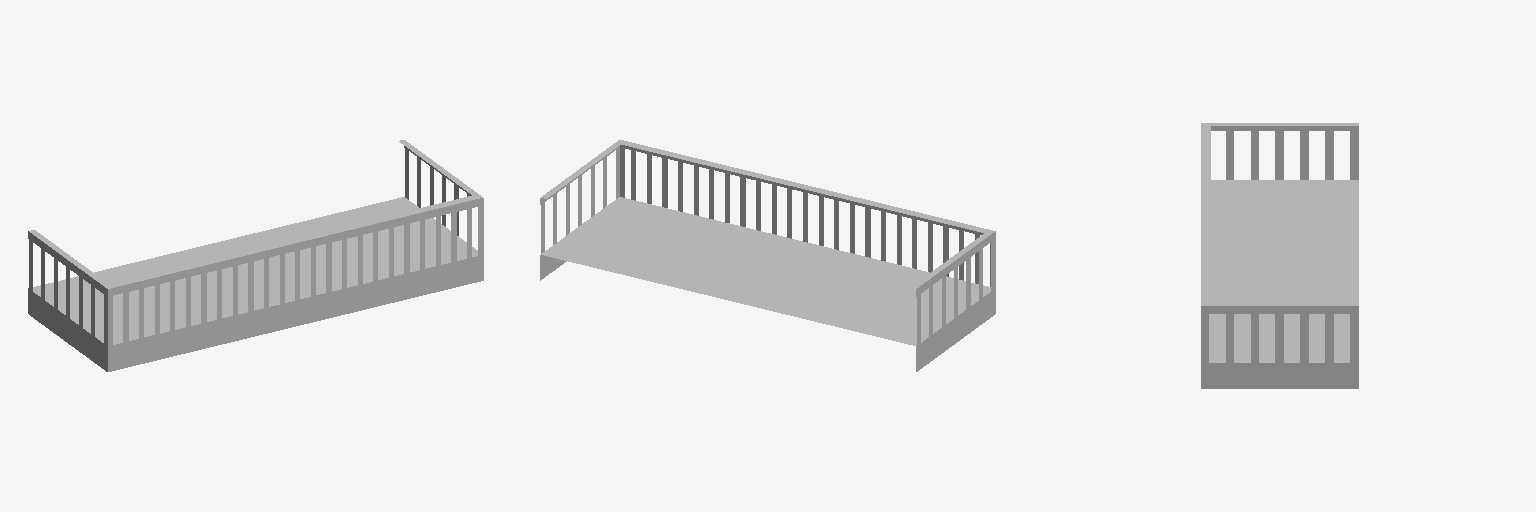
The model's file is city_edificio_chino4.obj.
3 views of the same model, side by side, from view 1: azimuth 30°, elevation 25°; view 2: azimuth 150°, elevation 25°; view 3: azimuth 270°, elevation 25° (orthographic).
Visible parts, largest first — view 1: group41; view 2: group41; view 3: group41.
Part boxes in pixels (left/top/right/bottom): group41: left=28, top=140, right=483, bottom=371; group41: left=540, top=140, right=995, bottom=371; group41: left=1201, top=123, right=1358, bottom=388.
Bounding box in the file's own units: 3.5 × 0.741 × 1.28.